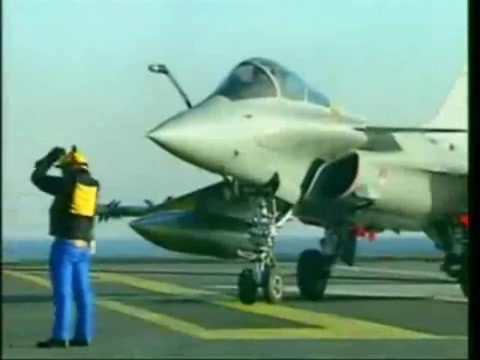aeroplane: (146, 58, 470, 304)
